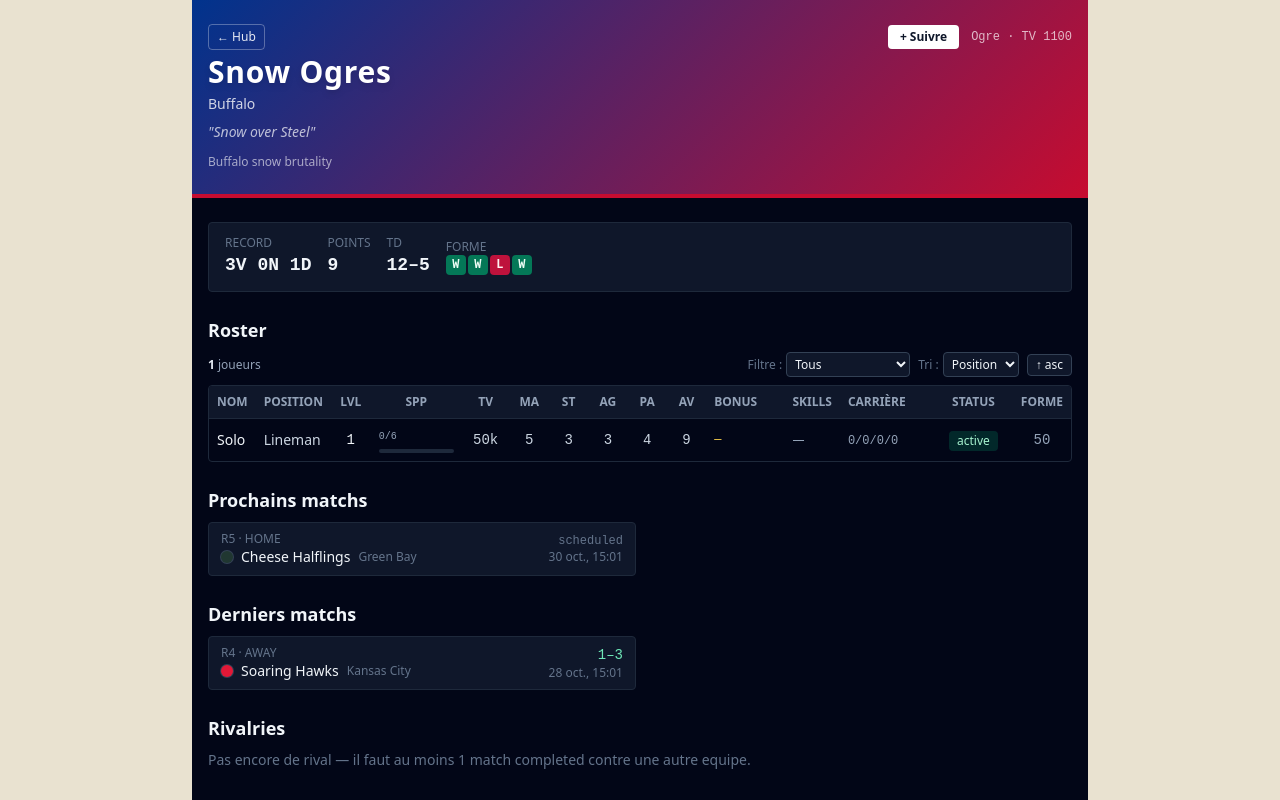
it: ProLeagueTeamPage — sprint 1.C.2 › Lot H — filters / sort / ready badge › filtre vide → message 'Aucun joueur'
Select "Blessés / nigglés" in the dropdown with test id "roster-filter": (848, 364) [786,352,910,377]
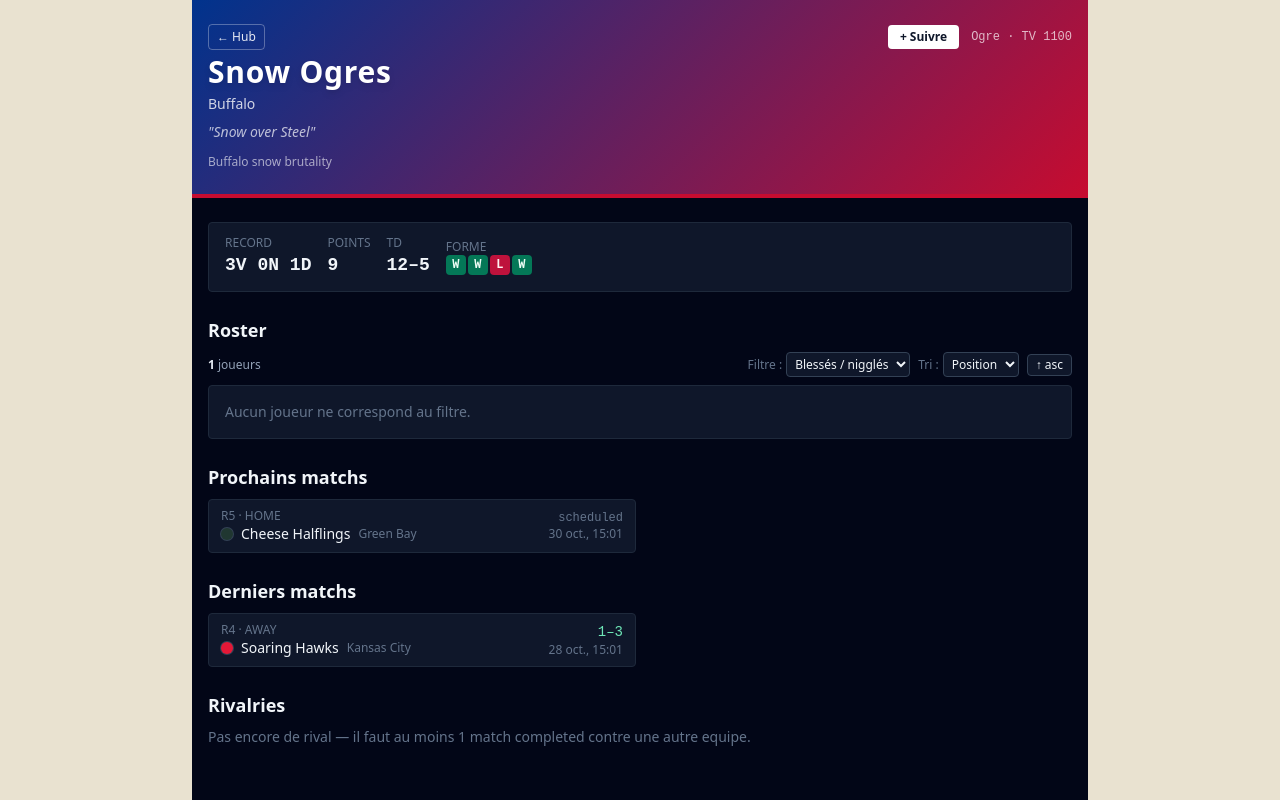
Expected: the text "Aucun joueur ne correspond au filtre." is shown, [208,385,1072,439]
